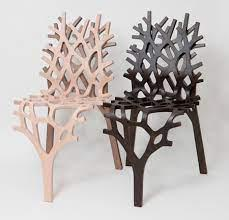chair: (8, 8, 215, 201)
